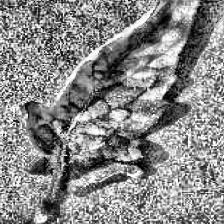leaf mold: (26, 0, 214, 185)
